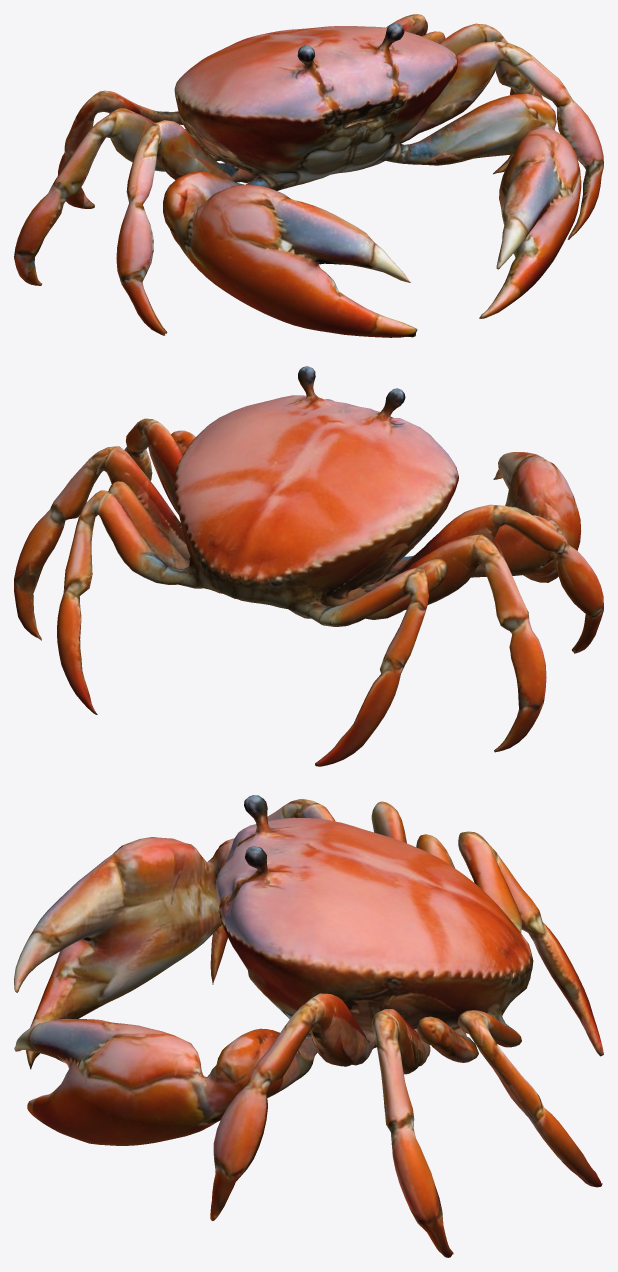
The model's file is crab.glb.
3 renders of one model, top to bottom at view 1: azimuth 30°, elevation 25°; view 2: azimuth 150°, elevation 25°; view 3: azimuth 270°, elevation 25°, orthographic. The views are drawn at different scales.
Bounding box in the file's own units: 2 × 0.9326 × 1.65.
Materials: 1 (1 with a texture image).
